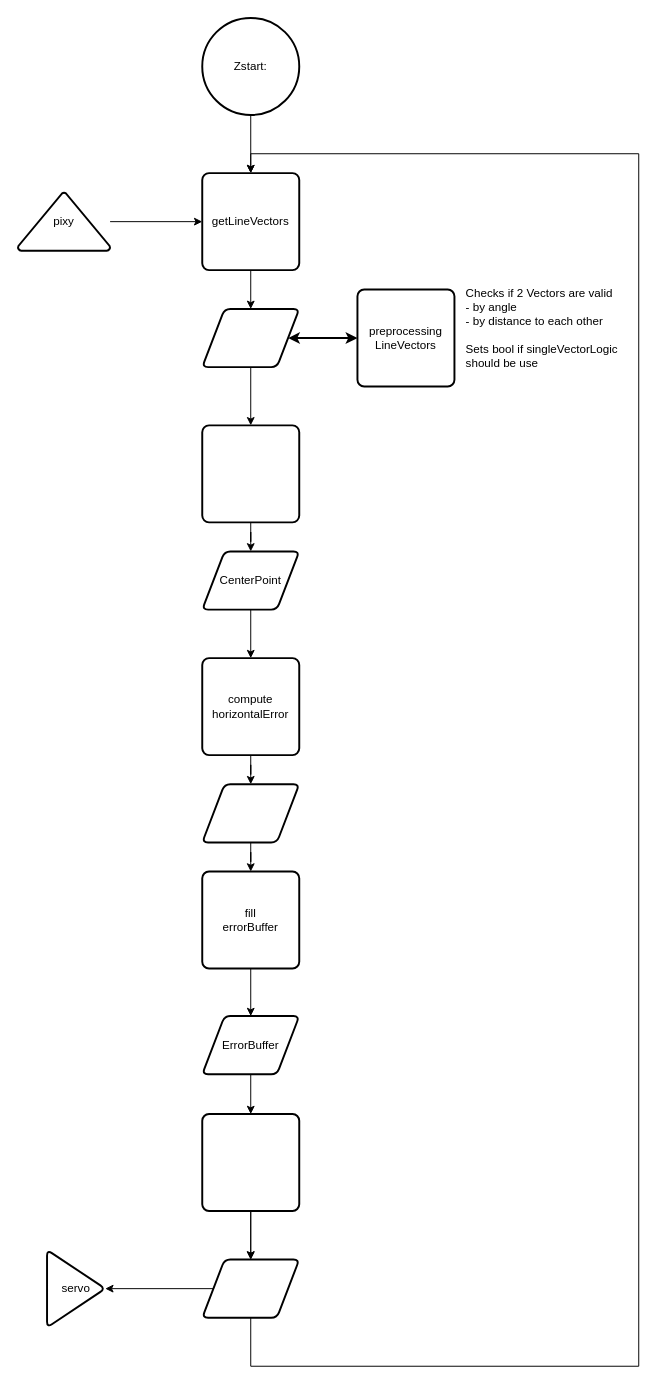
Image size: 664x1391. Some labels were removed from this diagram. The shapes that lost their labels are listed below. From the top down, each one's centre as x and y in pixels, then its label:
At point (250, 337): "LineVectors".
At point (250, 473): "compute centerPoint".
At point (250, 813): "Error".
At point (250, 1162): "calculate steer".
At point (250, 1288): "steer".
